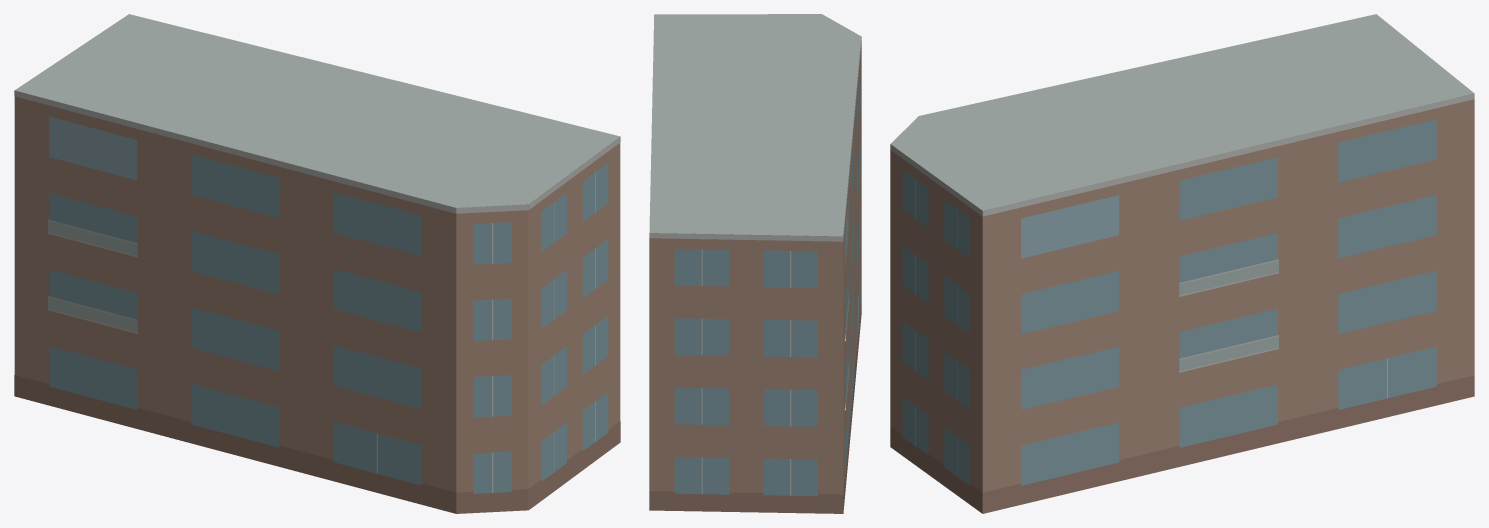
Rendered from survey-upis-32658894.glb.
3 views of the same model, side by side, from view 1: azimuth 30°, elevation 25°; view 2: azimuth 150°, elevation 25°; view 3: azimuth 270°, elevation 25° (orthographic). The views are drawn at different scales.
Parts seen in each view (by area): view 1: survey-upis-32658894.tmp; view 2: survey-upis-32658894.tmp; view 3: survey-upis-32658894.tmp.
Boxes of the visible parts, box(x1,y1,x2,y2) form: survey-upis-32658894.tmp: box(14, 14, 620, 513); survey-upis-32658894.tmp: box(649, 14, 861, 513); survey-upis-32658894.tmp: box(890, 14, 1474, 513).
Size of the model in its own units: 17.84 by 12.8 by 22.37.
